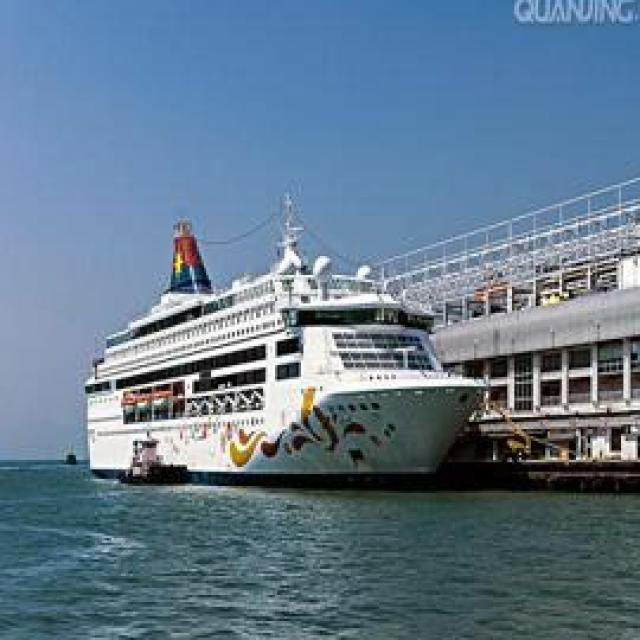passenger ship: (85, 209, 483, 487)
